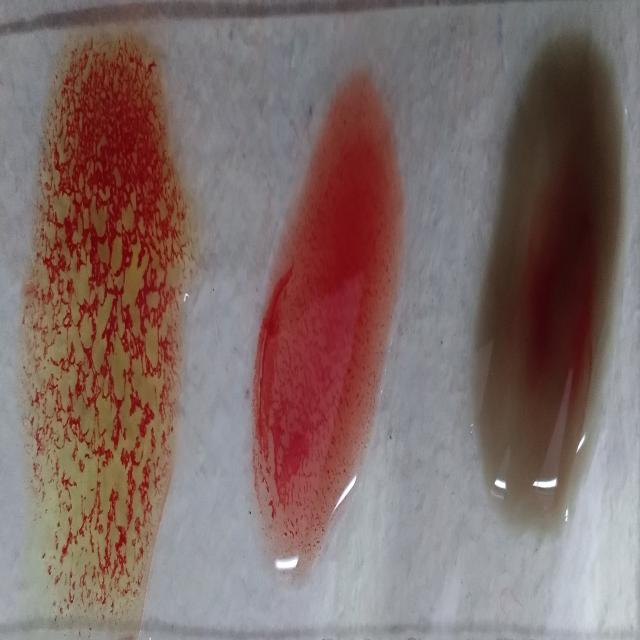B: (27, 32, 186, 635)
D: (260, 72, 392, 578)
